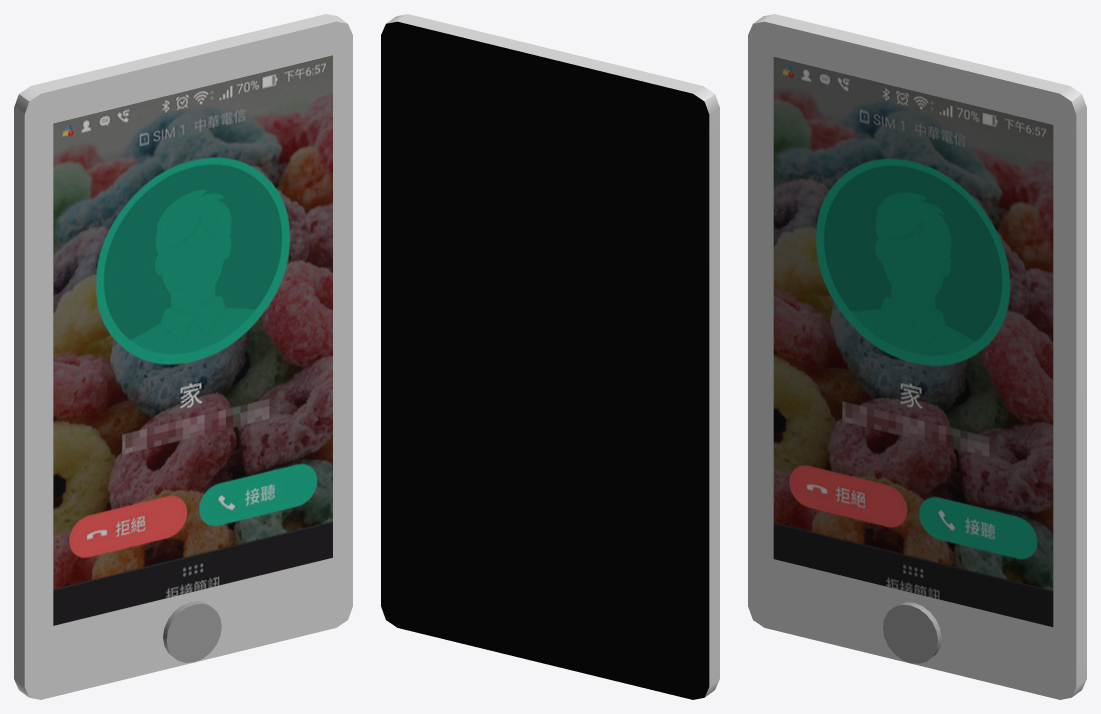
The model's file is mobile.fbx.
The picture shows the model from 3 angles, left to right: view 1: azimuth 30°, elevation 25°; view 2: azimuth 150°, elevation 25°; view 3: azimuth 330°, elevation 25°; orthographic projection.
Visible parts, largest first — view 1: pPlane1, pCube1, pCylinder1; view 2: pCube1; view 3: pPlane1, pCube1, pCylinder1.
Boxes of the visible parts, x1,y1,x2,y2 form: pPlane1: (53, 55, 332, 625); pCube1: (14, 14, 352, 699); pCylinder1: (163, 601, 221, 662); pCube1: (381, 14, 719, 699); pPlane1: (773, 57, 1053, 627); pCube1: (748, 14, 1086, 699); pCylinder1: (883, 602, 941, 663).
Size of the model in its own units: 3.36 by 5.92 by 0.2504.
Materials: 4 (1 with a texture image).
